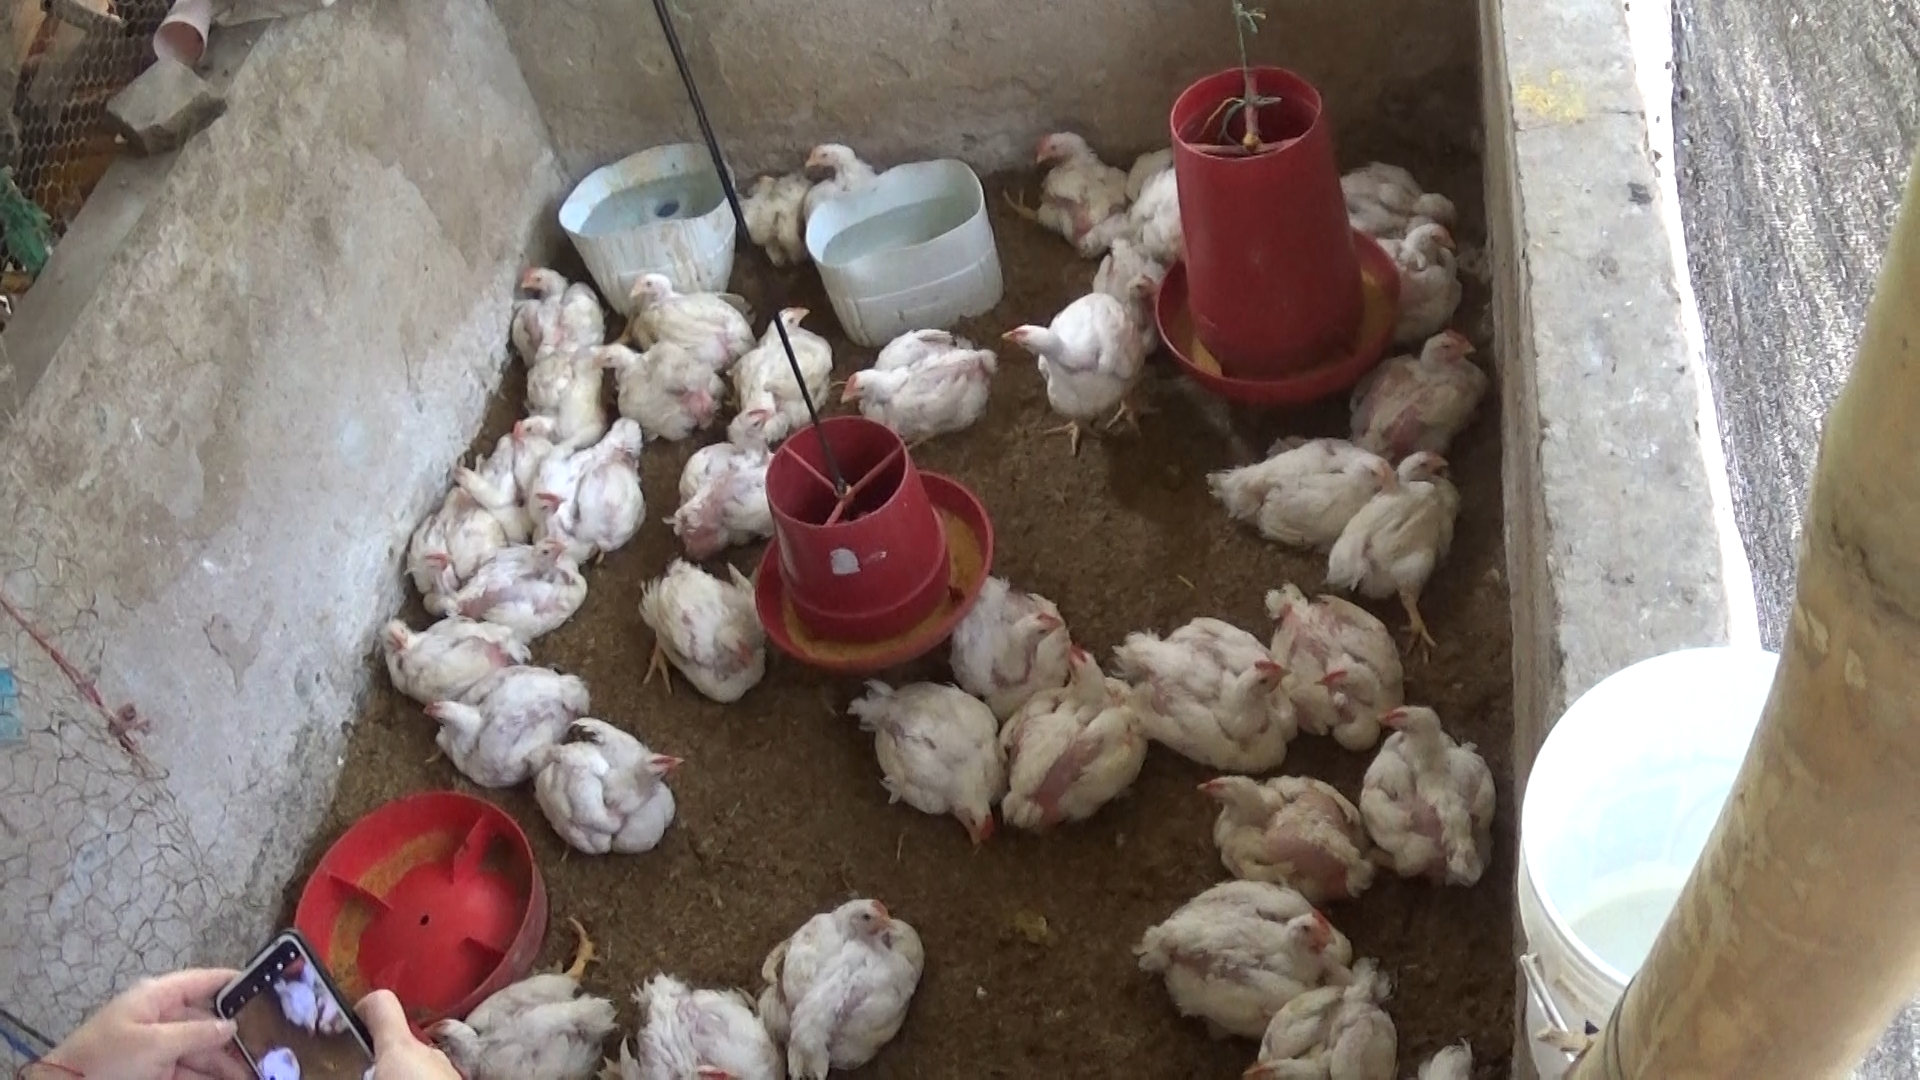Pollos: (1124, 873, 1338, 1034), (764, 882, 942, 1073), (1325, 446, 1474, 662), (992, 636, 1145, 833), (1357, 692, 1502, 895), (436, 914, 612, 1080), (1187, 760, 1367, 911), (852, 671, 1000, 855), (1203, 429, 1399, 564), (1121, 618, 1298, 766), (417, 662, 593, 803), (1259, 574, 1411, 737), (1005, 286, 1156, 446), (667, 393, 802, 556), (622, 547, 765, 702), (533, 717, 688, 858), (611, 959, 782, 1080), (1221, 971, 1408, 1080), (831, 322, 1000, 440), (1346, 316, 1484, 462), (953, 570, 1071, 709), (724, 297, 849, 426), (982, 125, 1124, 239), (402, 463, 522, 593), (587, 334, 715, 448), (381, 612, 526, 709), (535, 426, 644, 553), (620, 266, 753, 365), (1365, 218, 1472, 324), (512, 353, 621, 451), (460, 538, 585, 622), (1102, 227, 1182, 353), (1332, 153, 1448, 235), (495, 257, 600, 336), (793, 140, 887, 214)
